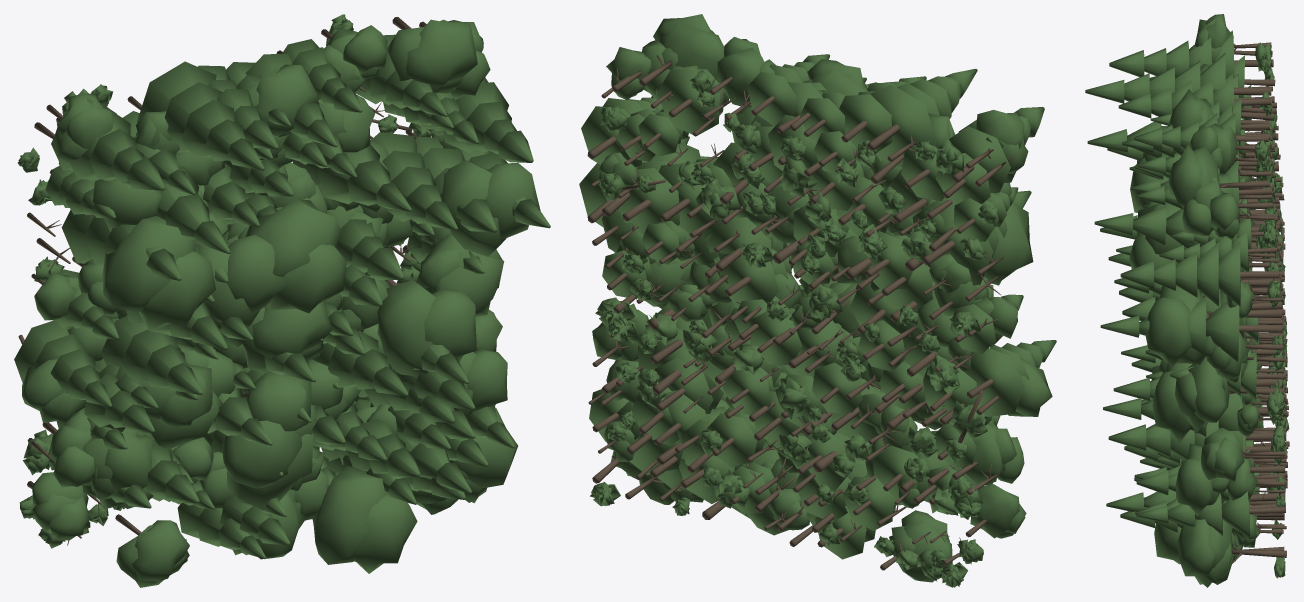
The model's file is batch_VEG_n003_p003.glb.
3 views of the same model, side by side, from view 1: azimuth 30°, elevation 25°; view 2: azimuth 150°, elevation 25°; view 3: azimuth 270°, elevation 25° (orthographic). The views are drawn at different scales.
Visible parts, largest first — view 1: SAR_Bush_0004.001; view 2: SAR_Bush_0004.001; view 3: SAR_Bush_0004.001.
Boxes of the visible parts, box(x1,y1,x2,y2) form: SAR_Bush_0004.001: box(14, 14, 550, 587); SAR_Bush_0004.001: box(579, 14, 1056, 587); SAR_Bush_0004.001: box(1085, 14, 1289, 587).
Bounding box in the file's own units: 55.81 × 58.55 × 24.25.
